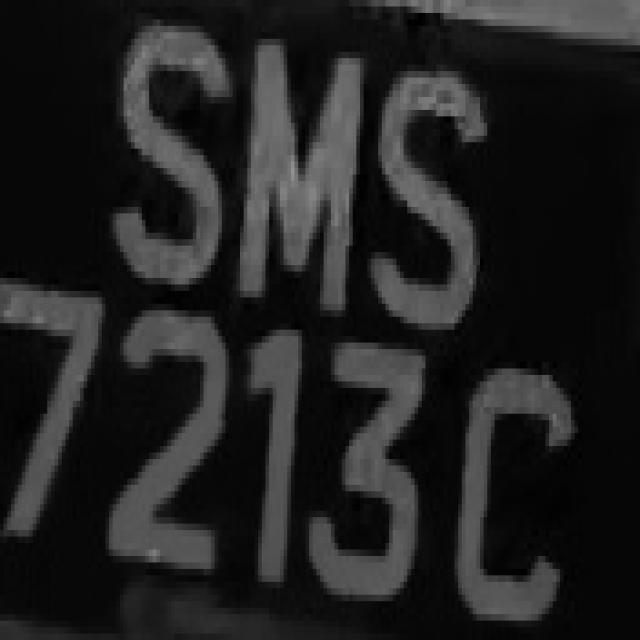1: (226, 297, 316, 608)
2: (105, 278, 222, 601)
3: (327, 310, 440, 621)
7: (4, 232, 116, 550)
C: (444, 323, 589, 634)
M: (229, 13, 396, 323)
S: (367, 45, 513, 349), (102, 32, 251, 298)
